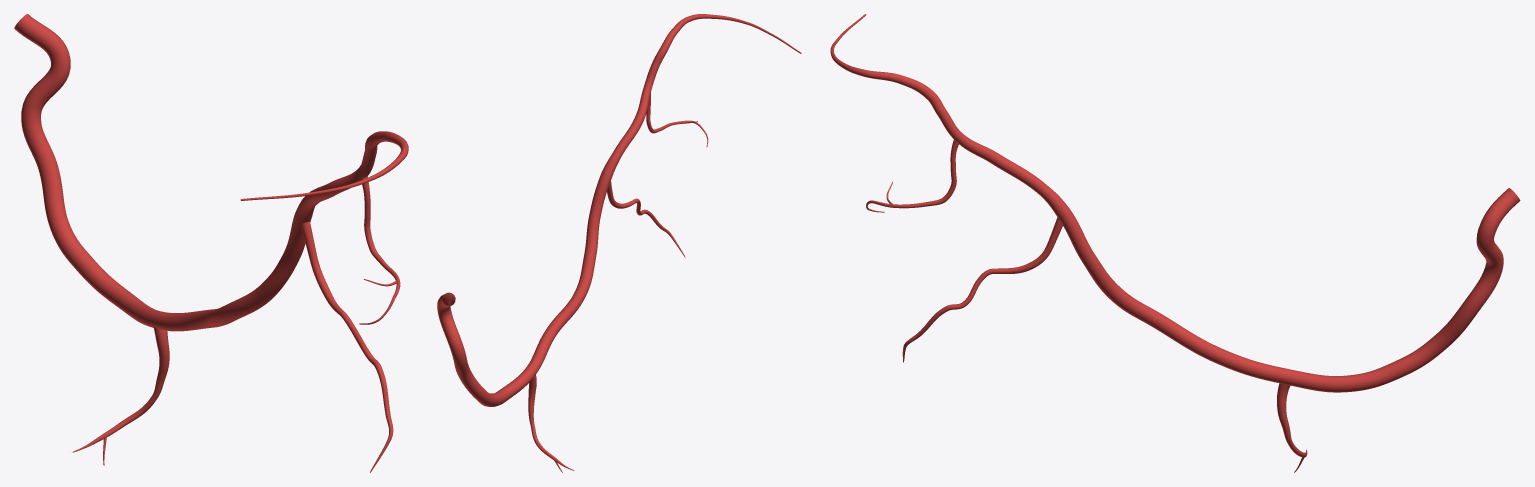
3 renders of one model, left to right at view 1: azimuth 30°, elevation 25°; view 2: azimuth 150°, elevation 25°; view 3: azimuth 270°, elevation 25°, orthographic. The views are drawn at different scales.
Parts seen in each view (by area): view 1: 右侧胼缘动脉; view 2: 右侧胼缘动脉; view 3: 右侧胼缘动脉.
Part boxes in pixels (x1,y1,x2,y2): 右侧胼缘动脉: [14, 14, 408, 472]; 右侧胼缘动脉: [437, 14, 801, 472]; 右侧胼缘动脉: [830, 14, 1520, 472].
Size of the model in its own units: 0.0315 by 0.0781 by 0.1148.
